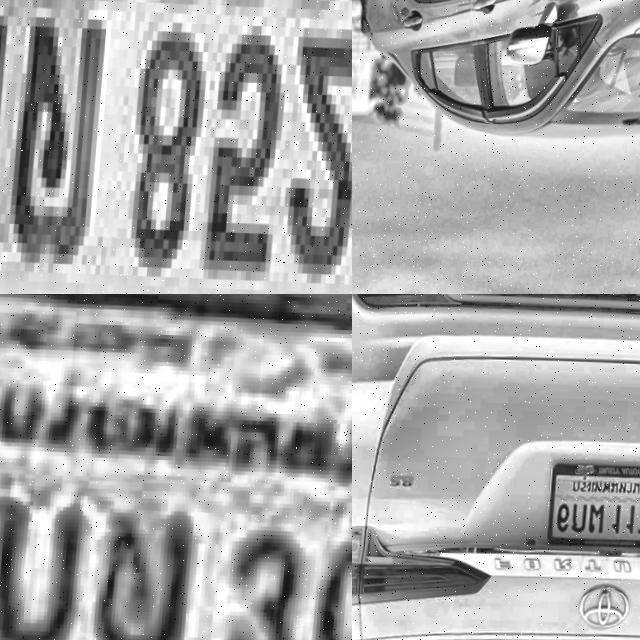license-plate: (0, 294, 352, 640), (0, 0, 352, 294), (545, 454, 640, 554)
